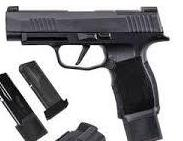gun: (1, 1, 183, 141)
